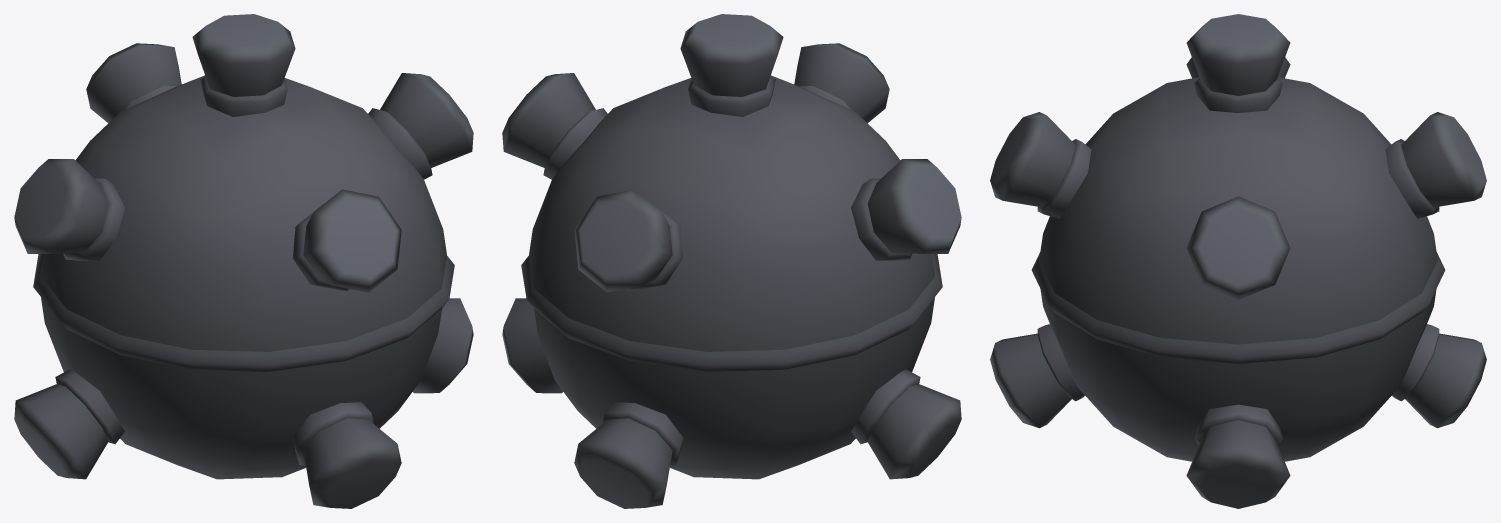
File: water_mine.glb
3 views of the same model, side by side, from view 1: azimuth 30°, elevation 25°; view 2: azimuth 150°, elevation 25°; view 3: azimuth 270°, elevation 25° (orthographic). The views are drawn at different scales.
Parts seen in each view (by area): view 1: water_mine3; view 2: water_mine3; view 3: water_mine3.
Part boxes in pixels (bbox=[...]): water_mine3: bbox=[14, 14, 473, 508]; water_mine3: bbox=[502, 14, 961, 508]; water_mine3: bbox=[990, 14, 1486, 508].
Bounding box in the file's own units: 0.35 × 0.3276 × 0.35.
1 material, 1 textured.
